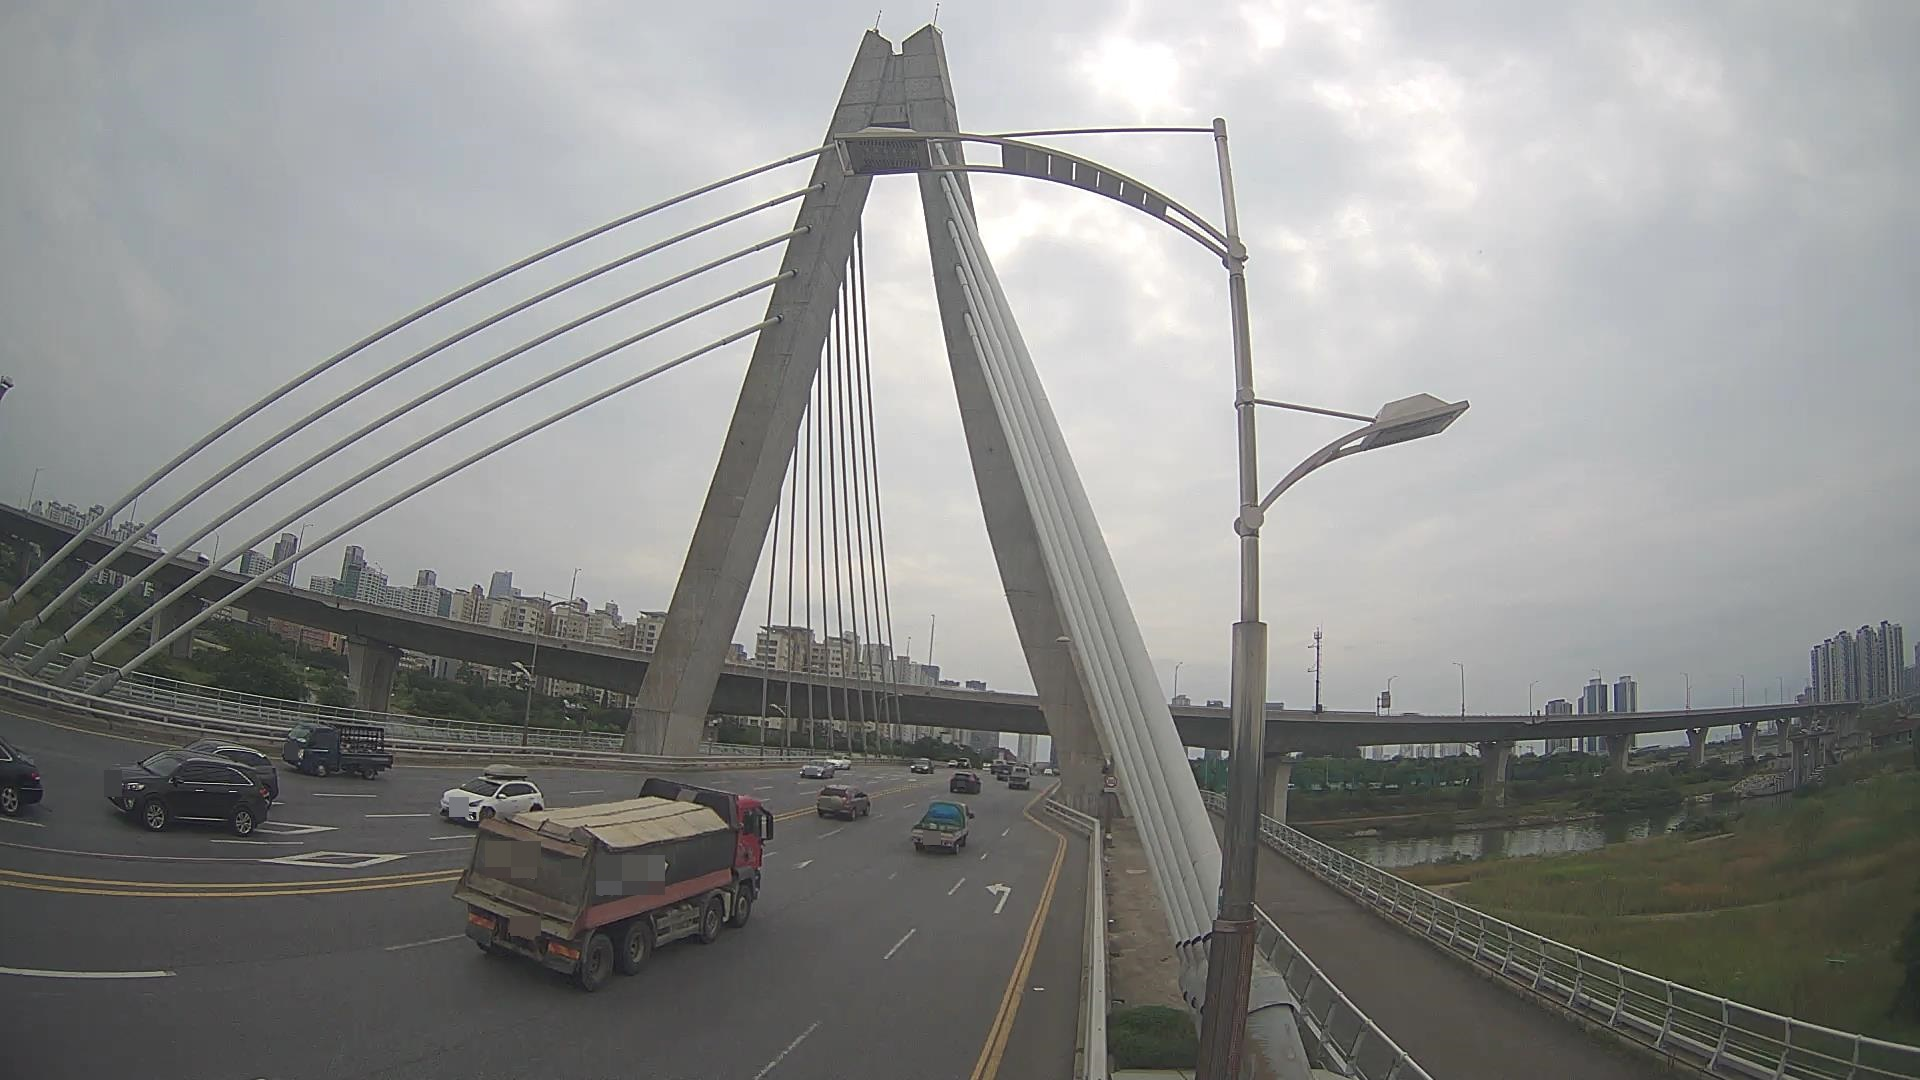정상차량: (452, 778, 773, 992)
